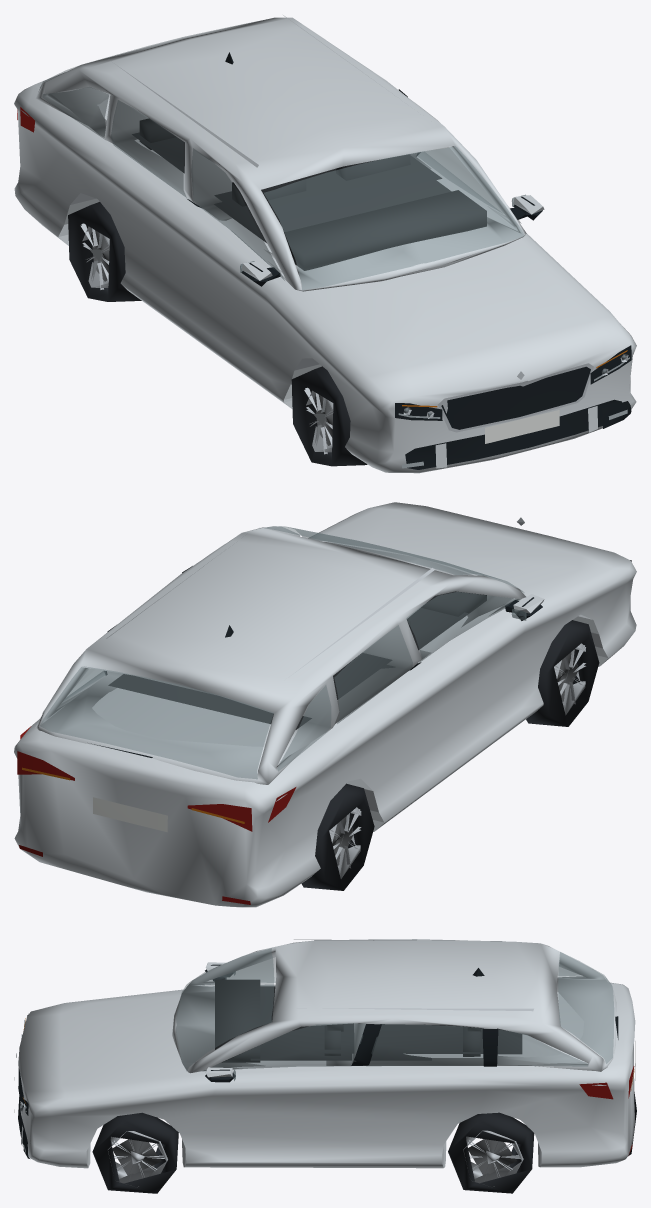
3 views of the same model, one above another, from view 1: azimuth 30°, elevation 25°; view 2: azimuth 150°, elevation 25°; view 3: azimuth 270°, elevation 25° (orthographic). The views are drawn at different scales.
Parts seen in each view (by area): view 1: body, wheel_FL, wheel_RL; view 2: body, wheel_FL, wheel_RL; view 3: body, wheel_RR, wheel_FR.
Boxes of the visible parts, x1,y1,x2,y2 form: body: (14,15,636,473); wheel_FL: (291,366,367,466); wheel_RL: (68,202,141,301); body: (14,502,636,907); wheel_FL: (526,620,599,726); wheel_RL: (301,783,374,890); body: (14,939,636,1168); wheel_RR: (448,1112,534,1193); wheel_FR: (92,1112,178,1193).
Bounding box in the file's own units: 2.01 × 1.49 × 4.71.
